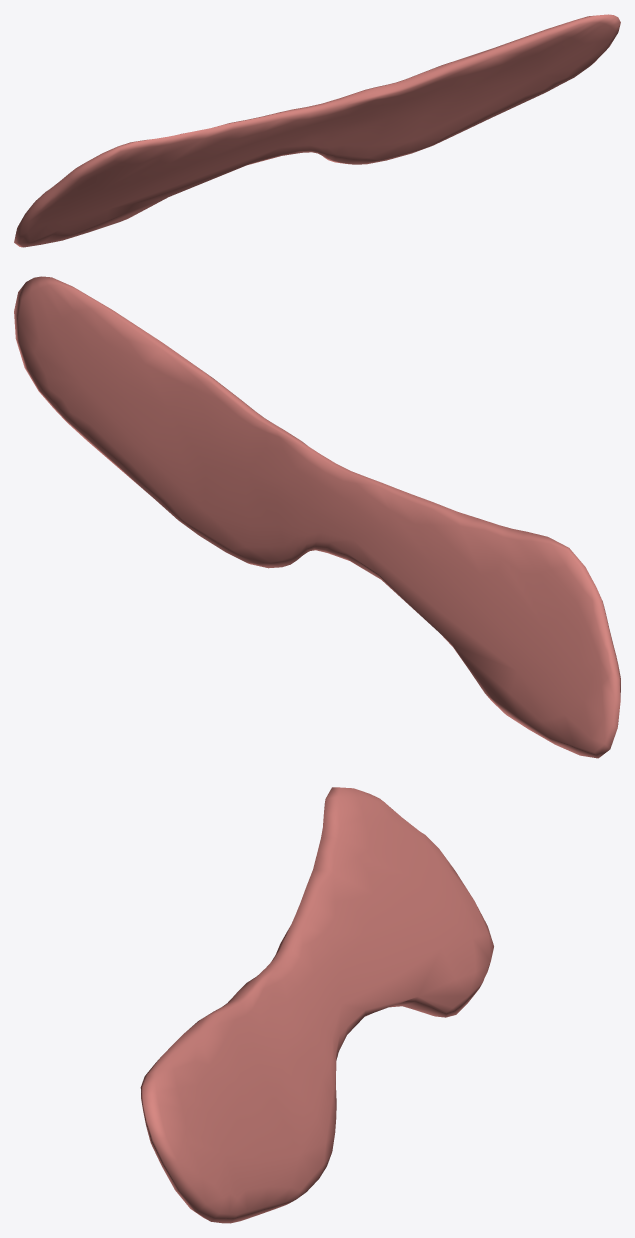
3 renders of one model, top to bottom at view 1: azimuth 30°, elevation 25°; view 2: azimuth 150°, elevation 25°; view 3: azimuth 270°, elevation 25°, orthographic. The views are drawn at different scales.
Visible parts, largest first — view 1: ZA_5fda0622ea25ee29; view 2: ZA_5fda0622ea25ee29; view 3: ZA_5fda0622ea25ee29.
Boxes of the visible parts, bbox=[...] form: ZA_5fda0622ea25ee29: bbox=[14, 14, 620, 247]; ZA_5fda0622ea25ee29: bbox=[14, 276, 620, 758]; ZA_5fda0622ea25ee29: bbox=[140, 787, 493, 1223].
Bounding box in the file's own units: 0.023 × 0.00736 × 0.00668.
